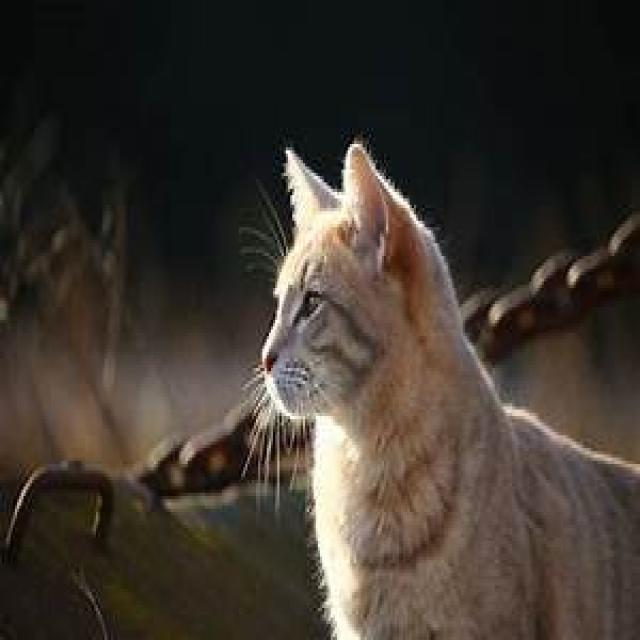animal: (233, 136, 639, 638)
